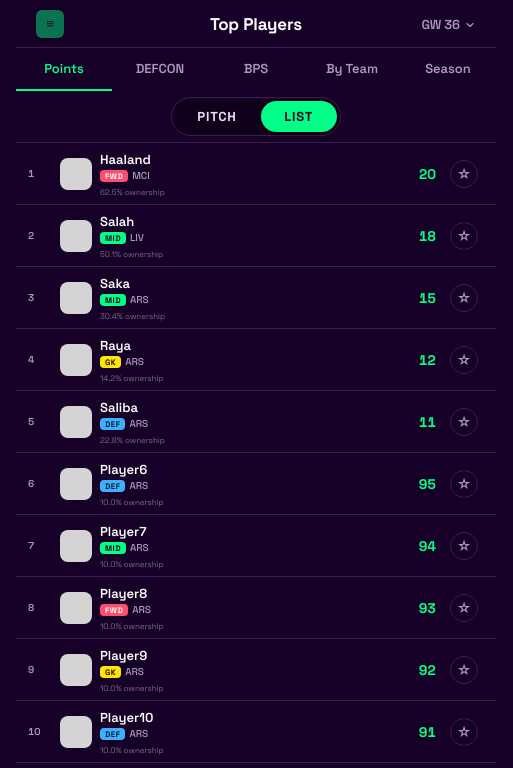
TopPlayersScreen — By Team tab › hides GW picker on By Team tab
The width and height of the screenshot is (513, 768).
Click the tab "By Team". click: [352, 70]
box: x1=304 y1=48 x2=400 y2=91
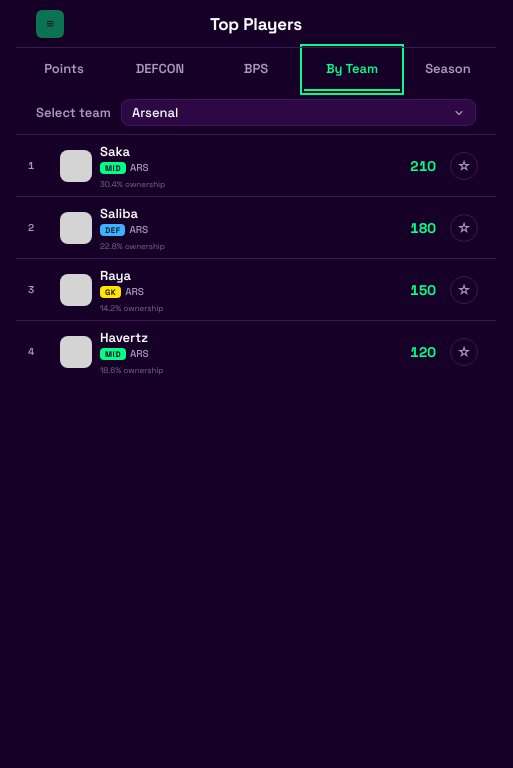
Now the button "GW 36" is gone
